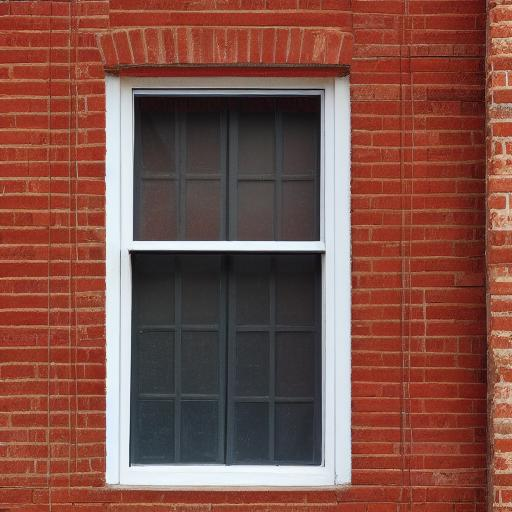Window: (94, 26, 361, 493)
